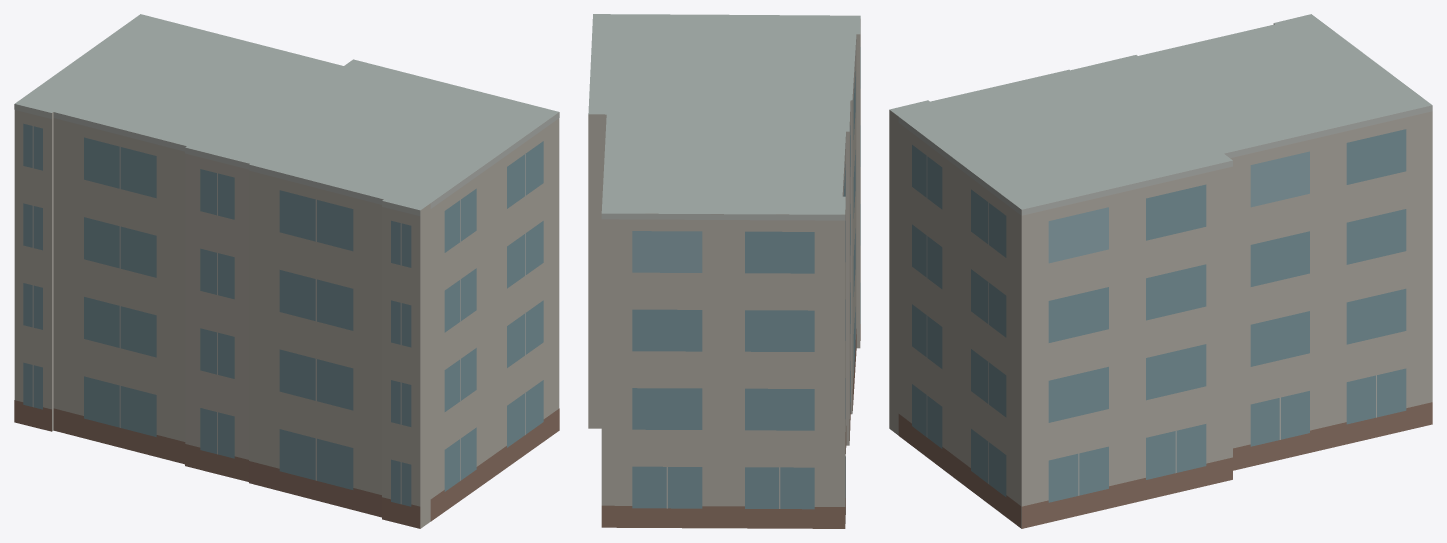
The model's file is survey-upis-32744776.glb.
3 renders of one model, left to right at view 1: azimuth 30°, elevation 25°; view 2: azimuth 150°, elevation 25°; view 3: azimuth 270°, elevation 25°, orthographic.
Parts seen in each view (by area): view 1: survey-upis-32744776.tmp; view 2: survey-upis-32744776.tmp; view 3: survey-upis-32744776.tmp.
Boxes of the visible parts, left/top/right/bottom form: survey-upis-32744776.tmp: left=14, top=14, right=559, bottom=528; survey-upis-32744776.tmp: left=588, top=14, right=860, bottom=528; survey-upis-32744776.tmp: left=889, top=14, right=1432, bottom=528.
Size of the model in its own units: 17.11 by 13 by 20.07.
